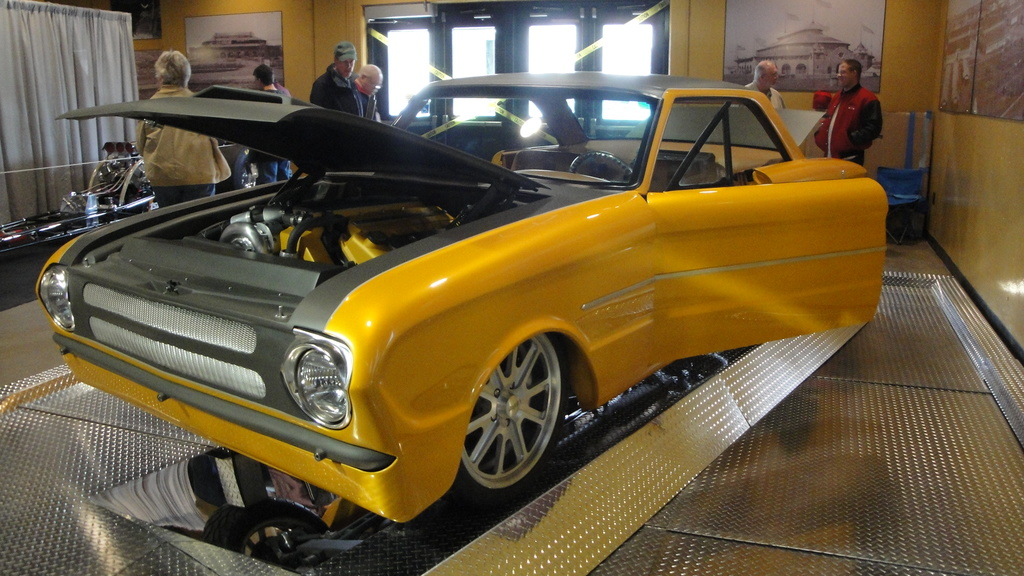Car: (37, 79, 888, 529)
